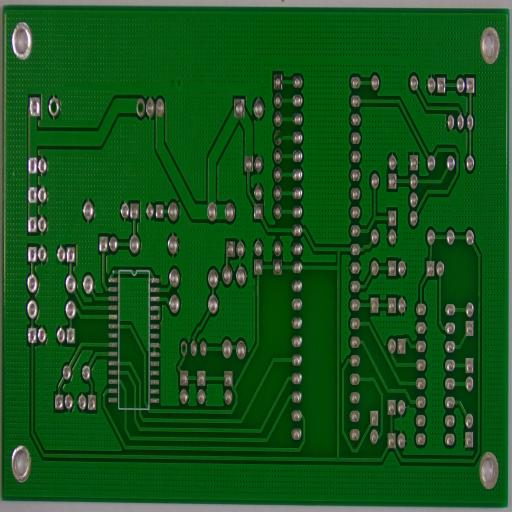missing_hole: (47, 94, 59, 120), (272, 126, 283, 148), (135, 96, 145, 117), (180, 339, 187, 357)
